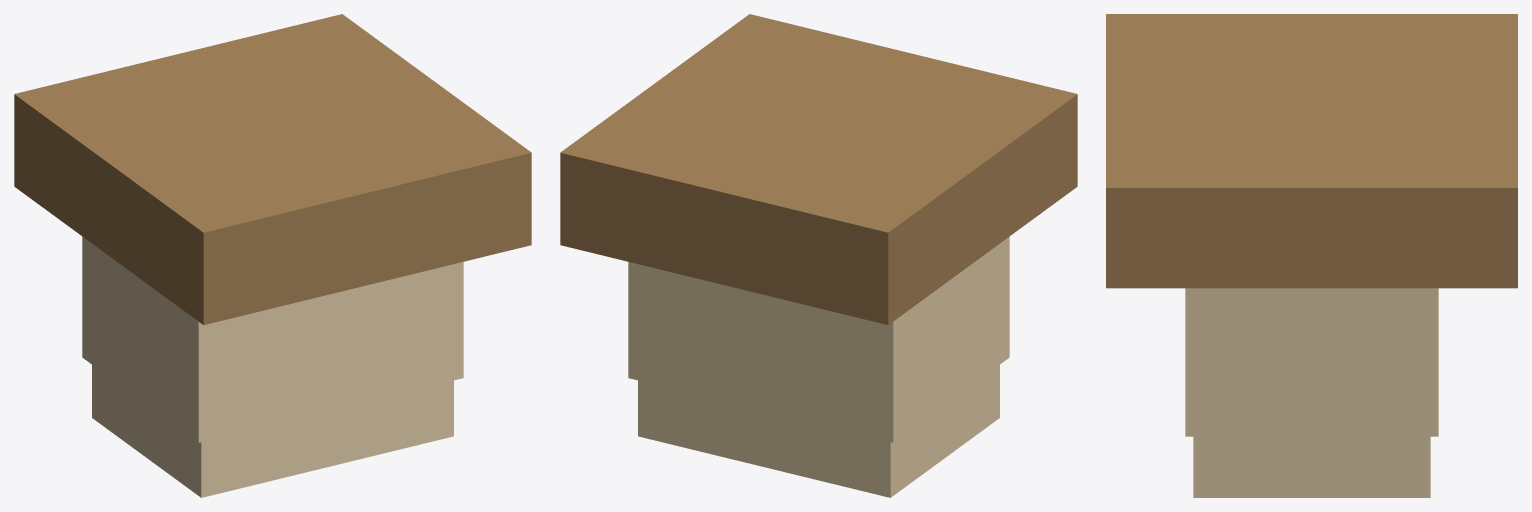
File: luvas_jardim.glb
3 renders of one model, left to right at view 1: azimuth 30°, elevation 25°; view 2: azimuth 150°, elevation 25°; view 3: azimuth 270°, elevation 25°, orthographic. The views are drawn at different scales.
Visible parts, largest first — view 1: luvas_jardim; view 2: luvas_jardim; view 3: luvas_jardim.
Part boxes in pixels (x1,y1,x2,y2): luvas_jardim: [14, 14, 531, 497]; luvas_jardim: [560, 14, 1077, 497]; luvas_jardim: [1106, 14, 1517, 497].
Size of the model in its own units: 0.26 by 0.23 by 0.26.
